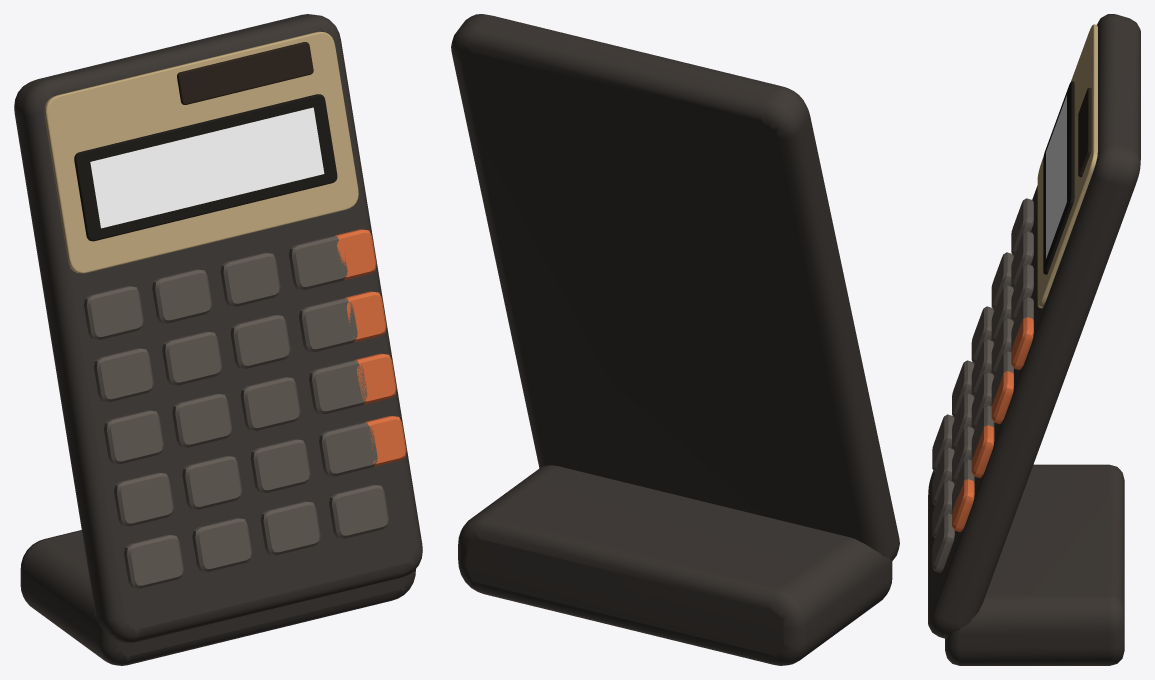
Rendered from calculator.glb.
The picture shows the model from 3 angles, left to right: view 1: azimuth 30°, elevation 25°; view 2: azimuth 150°, elevation 25°; view 3: azimuth 270°, elevation 25°; orthographic projection. The views are drawn at different scales.
Parts seen in each view (by area): view 1: Body, Key, Plate, Screen, Bezel, Op, Solar; view 2: Body; view 3: Body, Key, Plate, Op, Screen, Bezel, Solar.
Boxes of the visible parts, <box> form: Body: <box>14,14,422,665</box>; Key: <box>84,236,388,588</box>; Plate: <box>44,31,358,273</box>; Screen: <box>90,107,324,228</box>; Bezel: <box>74,94,337,241</box>; Op: <box>334,229,406,466</box>; Solar: <box>177,42,313,104</box>; Body: <box>451,14,899,665</box>; Body: <box>928,14,1140,665</box>; Key: <box>932,198,1033,572</box>; Plate: <box>1037,24,1097,308</box>; Op: <box>952,317,1033,532</box>; Screen: <box>1046,95,1066,258</box>; Bezel: <box>1043,81,1074,274</box>; Solar: <box>1078,88,1091,177</box>.
Size of the model in its own units: 0.24 by 0.3826 by 0.1423.
